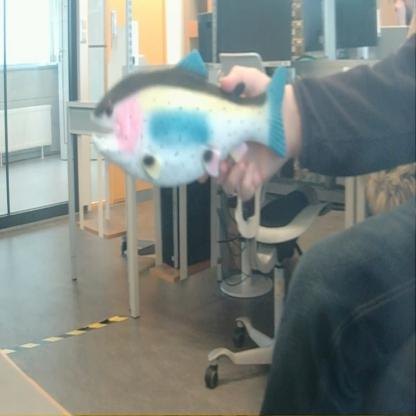rubberfish: (87, 44, 293, 192)
